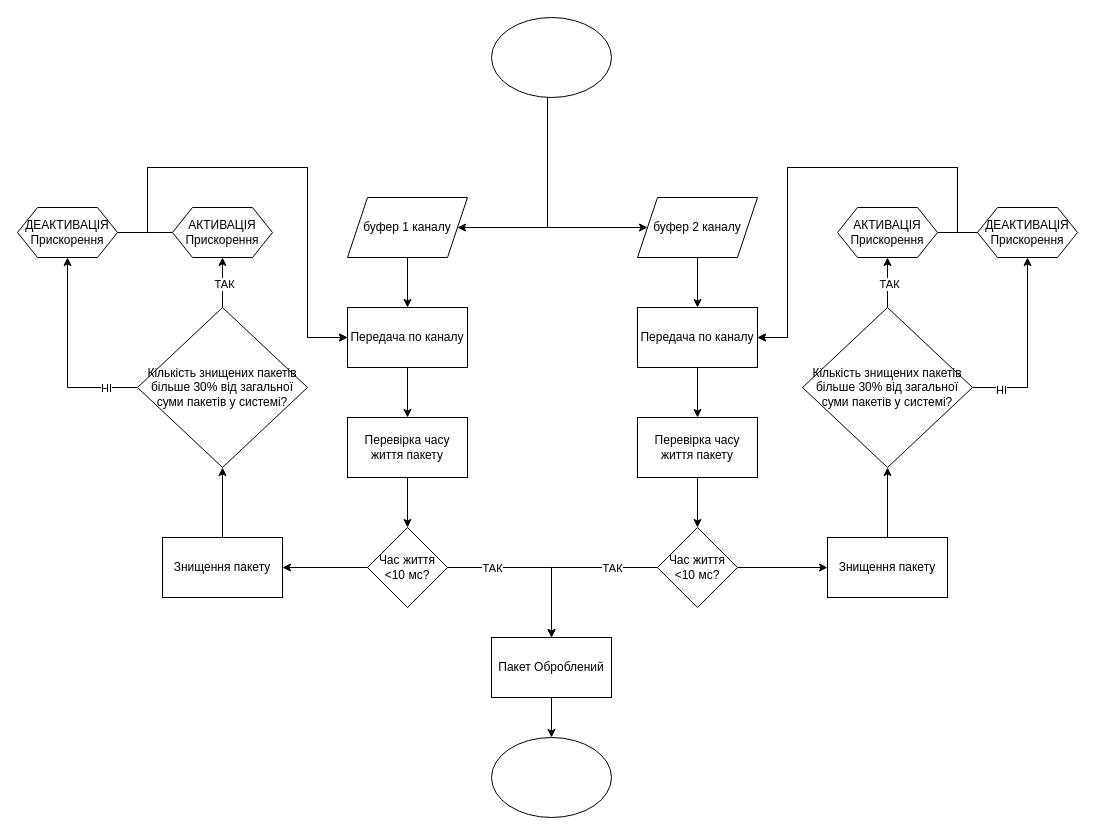
The diagram is 1095 pixels wide and 835 high, and some of its shapes have lost their labels. Each missing label, with the centre of its shape:
Кінець: the point at 551,777
Надходження: the point at 551,57
